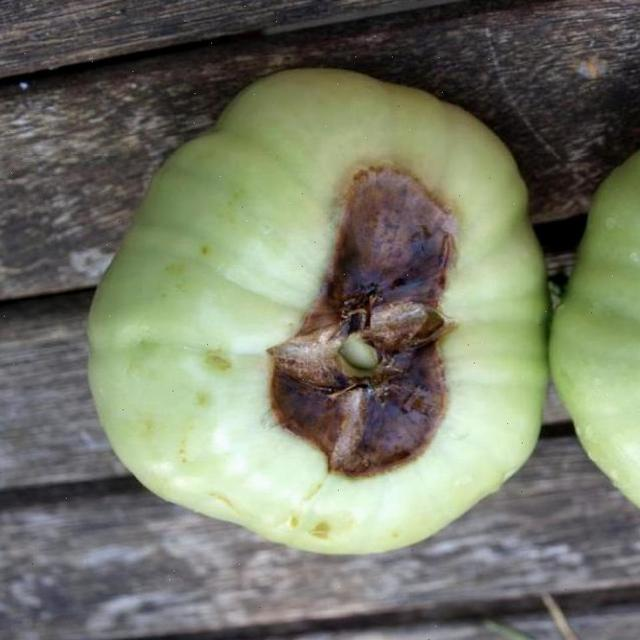Blossom End Rot Fruit: (178, 108, 306, 325)
